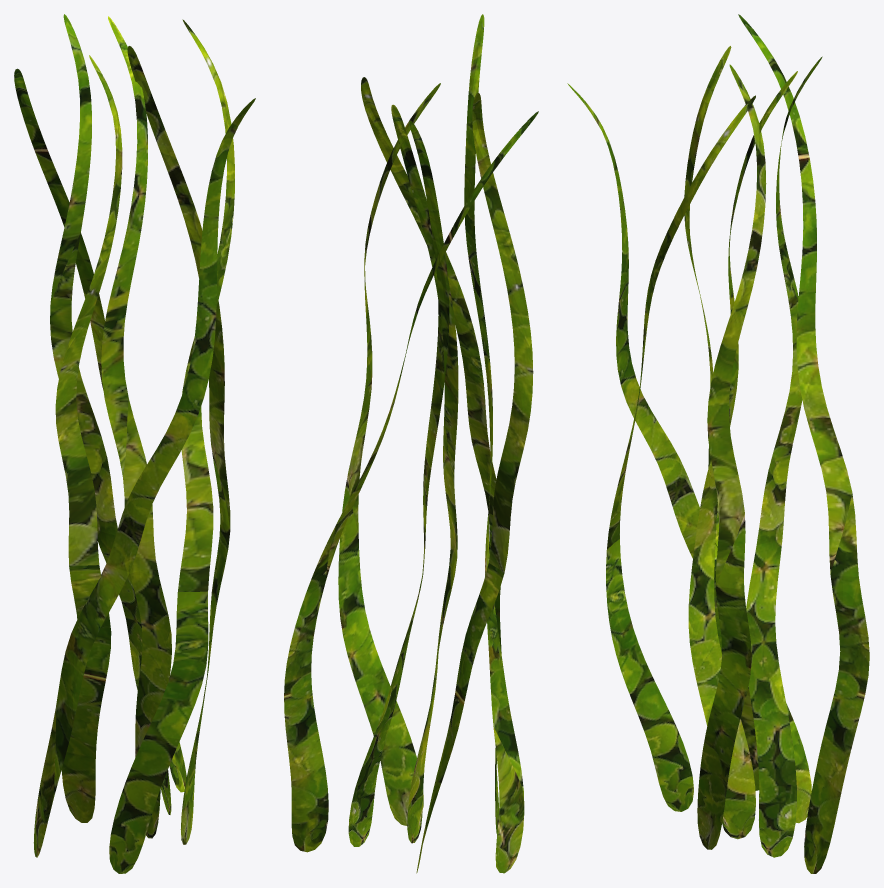
The model's file is algae 4.glb.
3 renders of one model, left to right at view 1: azimuth 30°, elevation 25°; view 2: azimuth 150°, elevation 25°; view 3: azimuth 270°, elevation 25°, orthographic. The views are drawn at different scales.
Visible parts, largest first — view 1: algae4; view 2: algae4; view 3: algae4.
Boxes of the visible parts, x1,y1,x2,y2 form: algae4: (14,14,255,873); algae4: (284,14,538,873); algae4: (567,14,869,873).
Bounding box in the file's own units: 0.5379 × 1.93 × 0.6917.
1 material, 1 textured.
